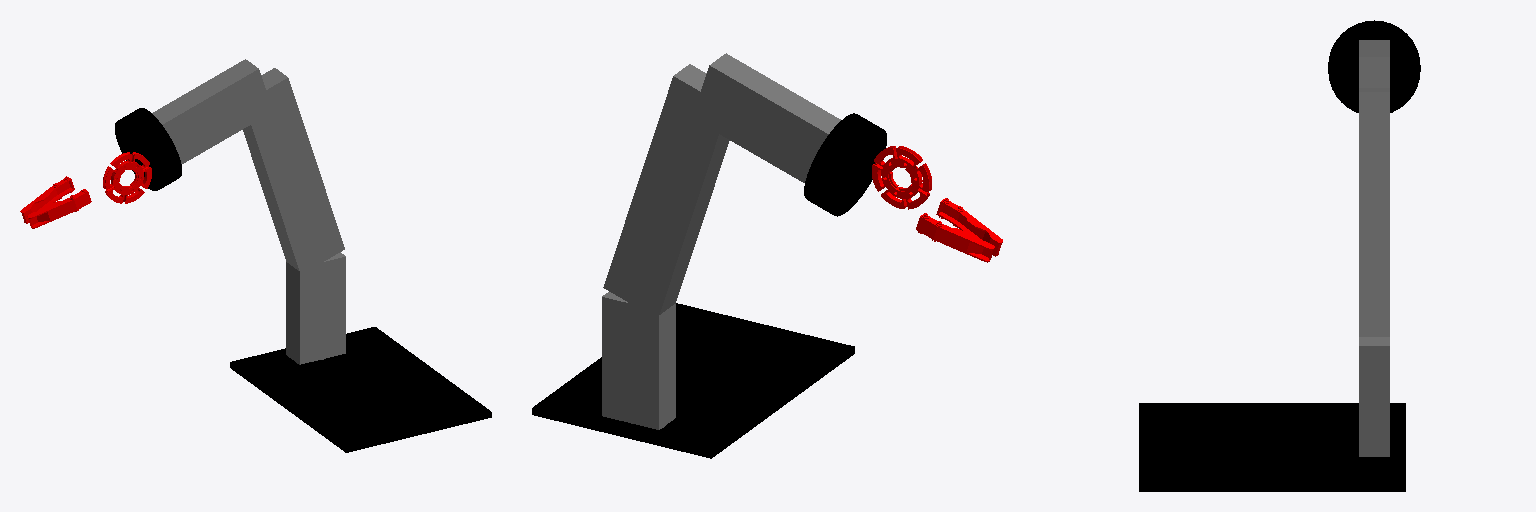
The robot description file, URDF, robot "arm":
<?xml version="1.0"?>

<!--
For IKFast:
- All rotation about Z-Axis
- Gripper base at offset from last link
- Gripper base points to Z-Direction
-->

<robot name="arm">
	<link name="base_link">
	</link>

	<link name="plate">
		<visual>
			<geometry>
				<mesh filename="package://arm_ros_conn/meshes/32985.stl"/>
			</geometry>
			<material name="black">
				<color rgba="0 0 0 1"/>
			</material>
		</visual>
	</link>

	<link name="arm_base">
	</link>

	<link name="link1">
		<visual>
			<geometry>
				<mesh filename="package://arm_ros_conn/meshes/link1.stl"/>
			</geometry>
			<origin xyz="0 0 0.0615"/>
			<material name="grey">
				<color rgba="0.5 0.5 0.5 1"/>
			</material>
		</visual>
	</link>

	<link name="link2">
		<visual>
			<geometry>
				<mesh filename="package://arm_ros_conn/meshes/link2.stl"/>
			</geometry>
			<origin xyz="0.120 0 0" rpy="1.5708 0 1.5708"/>
			<material name="grey">
				<color rgba="0.5 0.5 0.5 1"/>
			</material>
		</visual>
	</link>

	<link name="link3">
		<visual>
			<geometry>
				<mesh filename="package://arm_ros_conn/meshes/link3.stl"/>
			</geometry>
			<origin xyz="0 0.0675 0" rpy="1.5708 0 0"/>
			<material name="grey">
				<color rgba="0.5 0.5 0.5 1"/>
			</material>
		</visual>
	</link>

	<link name="link4">
		<visual>
			<geometry>
				<mesh filename="package://arm_ros_conn/meshes/link4.stl"/>
			</geometry>
			<origin xyz="0 0 0.015" rpy="0 0 0"/>
			<material name="black">
				<color rgba="0 0 0 1"/>
			</material>
		</visual>
	</link>

	<link name="link5">
		<visual>
			<geometry>
				<mesh filename="package://arm_ros_conn/meshes/31019.stl"/>
			</geometry>
			<origin xyz="0.0 0 0" rpy="0 0 0"/>
			<material name="red">
				<color rgba="1 0 0 1"/>
			</material>
		</visual>
	</link>

	<link name="gripper_pole">
	</link>

	<link name="gripper_center">
	</link>

	<link name="left_gripper">
		<visual>
			<origin xyz="0.025 0 0" rpy="-1.5708 3.1416 0"/>
			<geometry>
				<mesh filename="package://arm_ros_conn/meshes/35978.stl" scale="0.001 0.001 0.001"/>
			</geometry>
			<material name="red">
				<color rgba="1 0 0 1"/>
			</material>
		</visual>
	</link>

	<link name="right_gripper">
		<visual>
			<origin xyz="0.025 0 0" rpy="-1.5708 3.1416 0"/>
			<geometry>
				<mesh filename="package://arm_ros_conn/meshes/35978.stl" scale="0.001 0.001 0.001"/>
			</geometry>
			<material name="red">
				<color rgba="1 0 0 1"/>
			</material>
		</visual>
	</link>

	<joint name="plate_joint" type="fixed">
		<parent link="base_link"/>
		<child link="plate"/>
		<origin xyz="0 0 0.00375"/>
	</joint>

	<joint name="arm_base_joint" type="fixed">
		<parent link="plate"/>
		<child link="arm_base"/>
		<origin xyz="0 0.099 0"/>
	</joint>

	<joint name="link1_joint" type="revolute">
		<parent link="arm_base"/>
		<child link="link1"/>
		<axis xyz="0 0 -1"/>
		<limit effort="1.0" lower="0.0" upper="5.672320068981571" velocity="0.1"/>
	</joint>

	<joint name="link2_joint" type="revolute">
		<parent link="link1"/>
		<child link="link2"/>
		<axis xyz="0 0 1"/>
		<origin xyz="0.0 0.0 0.123" rpy="1.5708 0 0"/>
		<limit effort="1.0" lower="0.1505" upper="3.611" velocity="0.1"/>
	</joint>

	<joint name="link3_joint" type="revolute">
		<parent link="link2"/>
		<child link="link3"/>
		<axis xyz="0 0 -1"/>
		<origin xyz="0.240 0 0" rpy="0 0 0"/>
		<limit effort="1.0" lower="0" upper="3.1416" velocity="0.1"/>
	</joint>

	<joint name="link4_joint" type="revolute">
		<parent link="link3"/>
		<child link="link4"/>
		<axis xyz="0 0 -1"/>
		<origin xyz="0 0.135 0" rpy="-1.5708 0 0"/>
		<limit effort="1.0" lower="-0.15708" upper="5.4978" velocity="0.1"/>
	</joint>

	<joint name="link5_joint" type="revolute">
		<parent link="link4"/>
		<child link="link5"/>
		<axis xyz="0 0 1"/>
		<origin xyz="0 0 0.06" rpy="1.5708 0 0"/>
		<limit effort="1.0" lower="-1.5707963267948966" upper="1.5707963267948966" velocity="0.1"/>
	</joint>

	<joint name="gripper_pole_joint" type="fixed">
		<parent link="link5"/>
		<child link="gripper_pole"/>
		<origin xyz="0 0.02275 0" rpy="1.5708 0 1.5708"/>
	</joint>

	<joint name="gripper_center_joint" type="fixed">
		<parent link="gripper_pole"/>
		<child link="gripper_center"/>
		<origin xyz="0.08 0 0" rpy="0 0 0"/>
	</joint>

	<joint name="left_gripper_joint" type="revolute">
		<parent link="gripper_pole"/>
		<child link="left_gripper"/>
		<axis xyz="0 0 1"/>
		<origin xyz="0 0.015 0" rpy="0 0 0"/>
		<limit effort="1.0" lower="0.0" upper="0.35" velocity="0.1"/>
	</joint>

	<joint name="right_gripper_joint" type="revolute">
		<parent link="gripper_pole"/>
		<child link="right_gripper"/>
		<axis xyz="0 0 1"/>
		<origin xyz="0 -0.015 0" rpy="3.1416 0 0"/>
		<limit effort="1.0" lower="0.0" upper="0.35" velocity="0.1"/>
	</joint>
</robot>

--- Render facts (derived) ---
3 views of the same robot in one strip: view 1: azimuth 30°, elevation 25°; view 2: azimuth 150°, elevation 25°; view 3: azimuth 270°, elevation 25° (orthographic).
Model arm with 12 links and 11 joints (7 revolute, 4 fixed), rooted at base_link, posed all joints at 0 but 1 set to mid-range because 0 is outside their limits (link2_joint = 1.88).
Links seen in each view (by area): view 1: plate, link2, link3, link1, link4, link5, left_gripper, right_gripper; view 2: plate, link2, link3, link1, link4, link5, right_gripper, left_gripper; view 3: plate, link2, link4, link1, link3.
Link boxes in pixels (bbox=[...]): plate: bbox=[230, 327, 491, 452]; link2: bbox=[243, 68, 344, 274]; link3: bbox=[152, 59, 272, 163]; link1: bbox=[286, 252, 345, 364]; link4: bbox=[115, 108, 181, 190]; link5: bbox=[103, 152, 151, 203]; left_gripper: bbox=[27, 189, 91, 228]; right_gripper: bbox=[20, 176, 74, 223]; plate: bbox=[532, 303, 854, 458]; link2: bbox=[603, 64, 729, 314]; link3: bbox=[701, 53, 840, 182]; link1: bbox=[602, 292, 675, 429]; link4: bbox=[804, 113, 886, 216]; link5: bbox=[872, 146, 931, 209]; right_gripper: bbox=[916, 213, 994, 262]; left_gripper: bbox=[936, 198, 1002, 256]; plate: bbox=[1139, 403, 1405, 491]; link2: bbox=[1359, 88, 1389, 336]; link4: bbox=[1328, 20, 1420, 112]; link1: bbox=[1359, 337, 1389, 456]; link3: bbox=[1359, 40, 1389, 87].
Size in the robot's own frame: 0.4689 by 0.2735 by 0.3839 metres.
8 mesh visuals loaded from 7 distinct referenced files (7 binary STL).